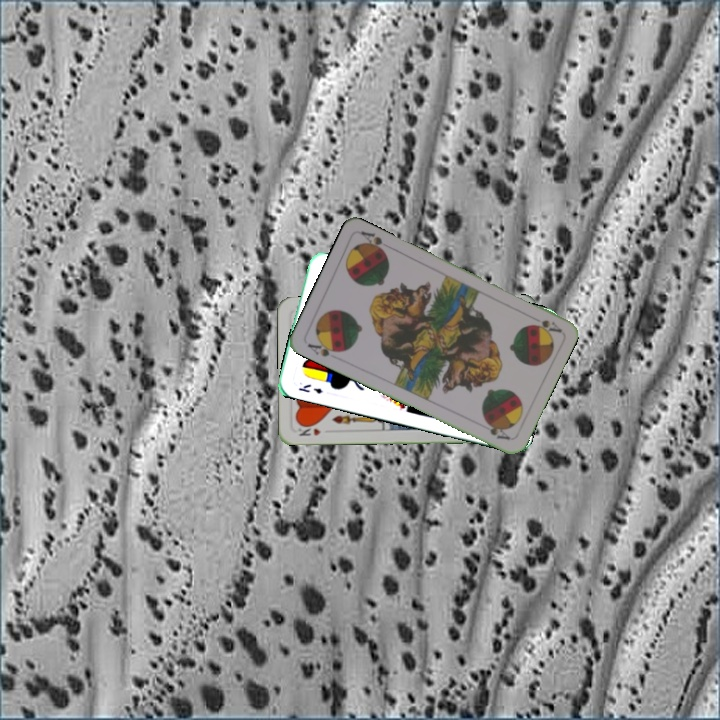EK: (294, 380, 325, 396)
HK: (294, 420, 323, 438)
SA: (303, 336, 344, 359), (525, 311, 564, 335)
